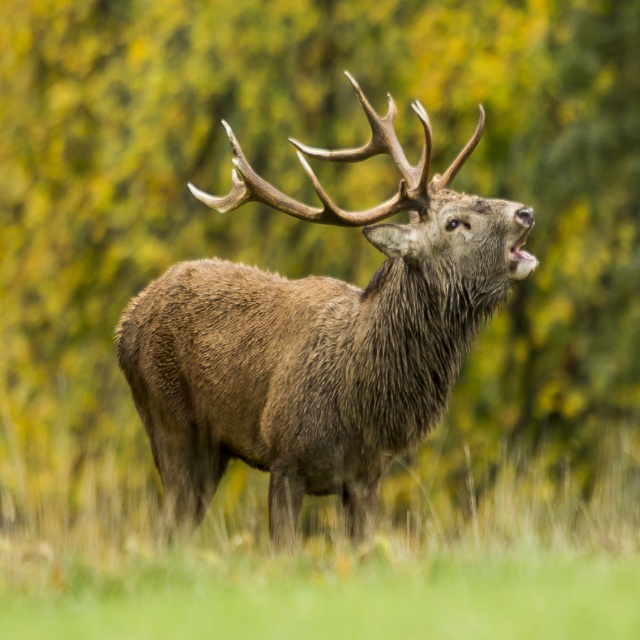Deer: (113, 69, 539, 567)
